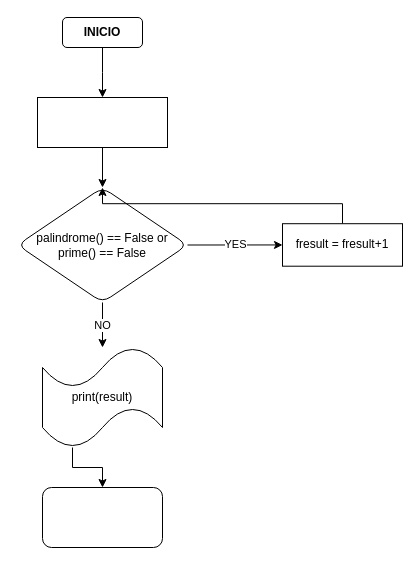
Some shapes in this 420 by 565 pixel diagram are drawn without their labels. Here are the shapes that lost their labels. From the top down, the box of each, then its label:
(36, 96, 168, 148): fresult = initial_number
(42, 486, 162, 548): FIN
